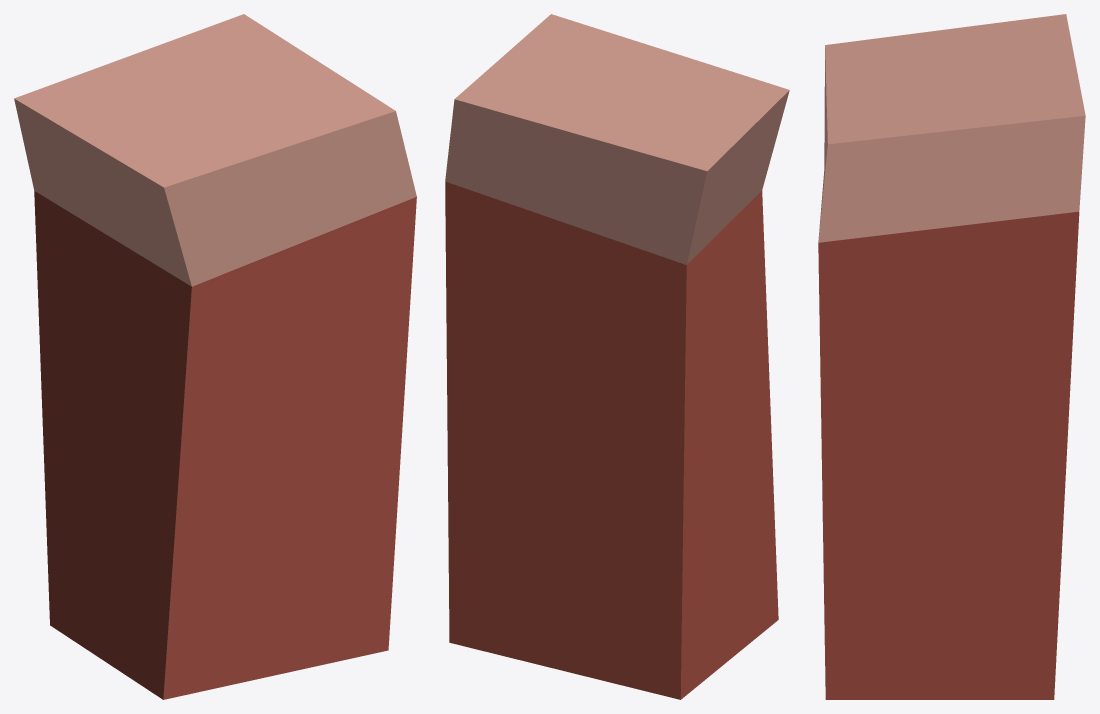
Rendered from picanhaCube01.fbx.
3 renders of one model, left to right at view 1: azimuth 30°, elevation 25°; view 2: azimuth 150°, elevation 25°; view 3: azimuth 270°, elevation 25°, orthographic. The views are drawn at different scales.
Visible parts, largest first — view 1: picanhaCube01; view 2: picanhaCube01; view 3: picanhaCube01.
Part boxes in pixels (x1,y1,x2,y2): picanhaCube01: [14, 14, 416, 699]; picanhaCube01: [445, 14, 789, 699]; picanhaCube01: [818, 14, 1085, 699].
Size of the model in its own units: 4.87 by 9.02 by 3.81.
Materials: 1 (1 with a texture image).
